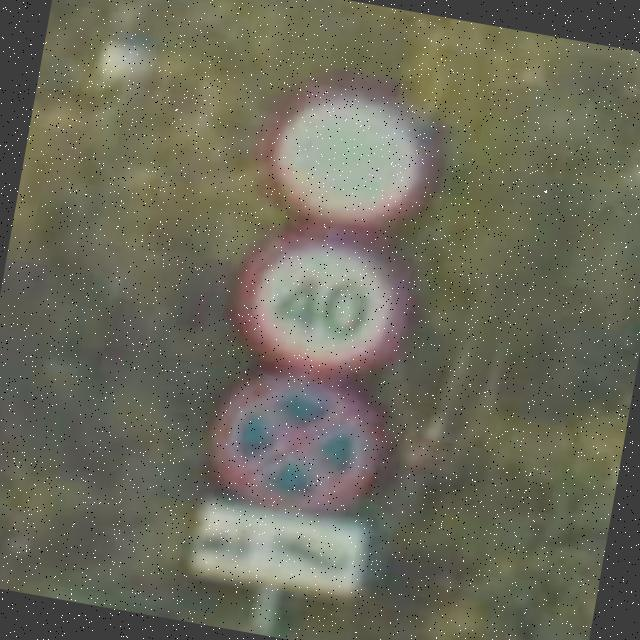Ograniczenie predkosci do 40: (226, 222, 419, 399)
Zakaz ruchu w obu kierunkach: (250, 76, 440, 246)
Zakaz zatrzymywania sie: (204, 368, 388, 527)
